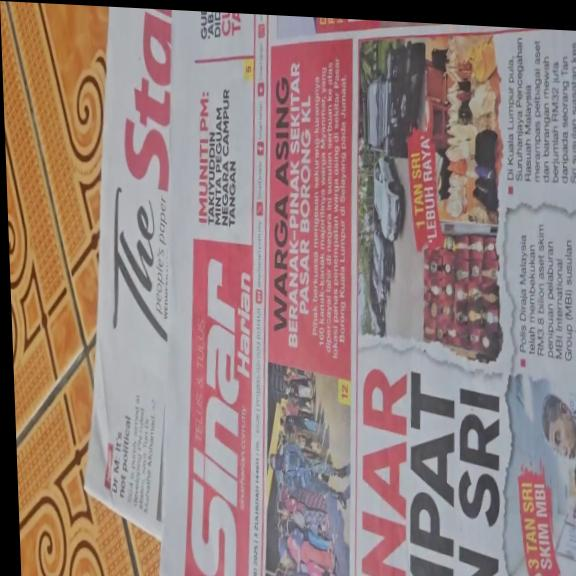Kertas: (70, 14, 576, 576)
